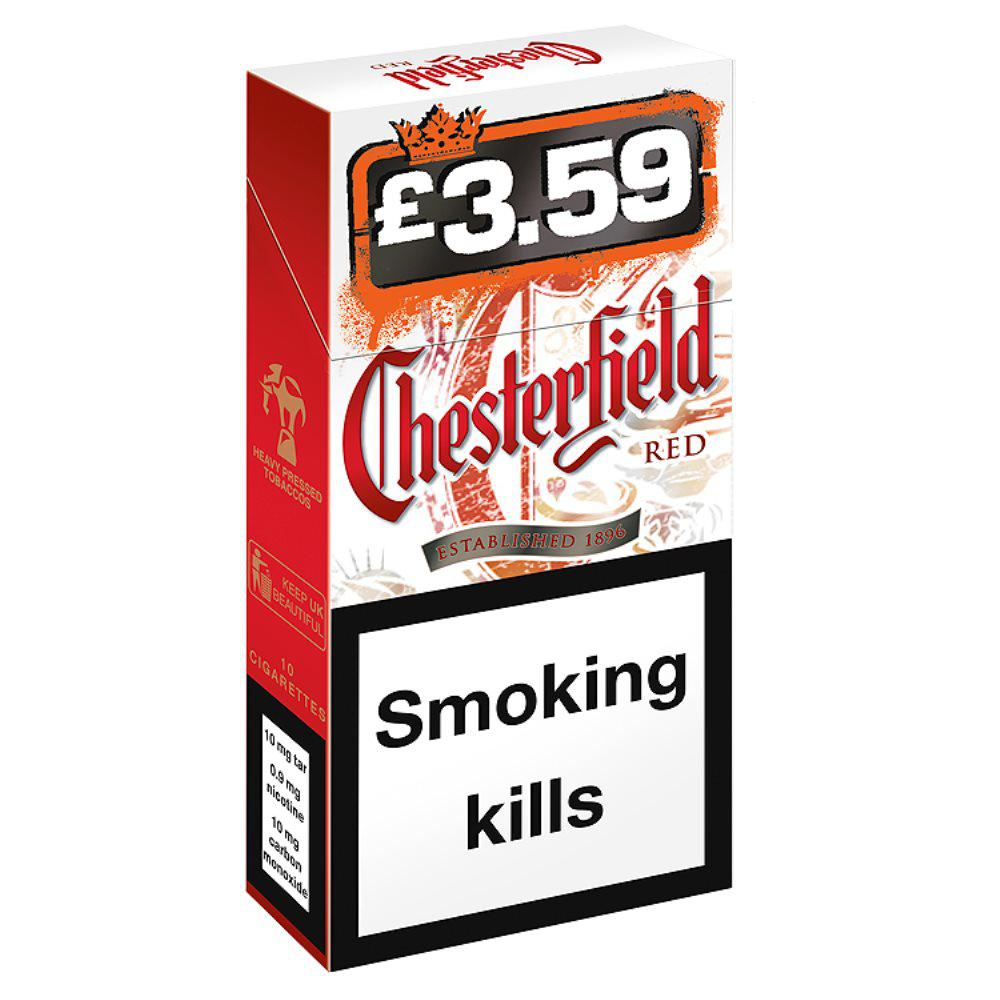chesterfield_red: (334, 109, 729, 887)
